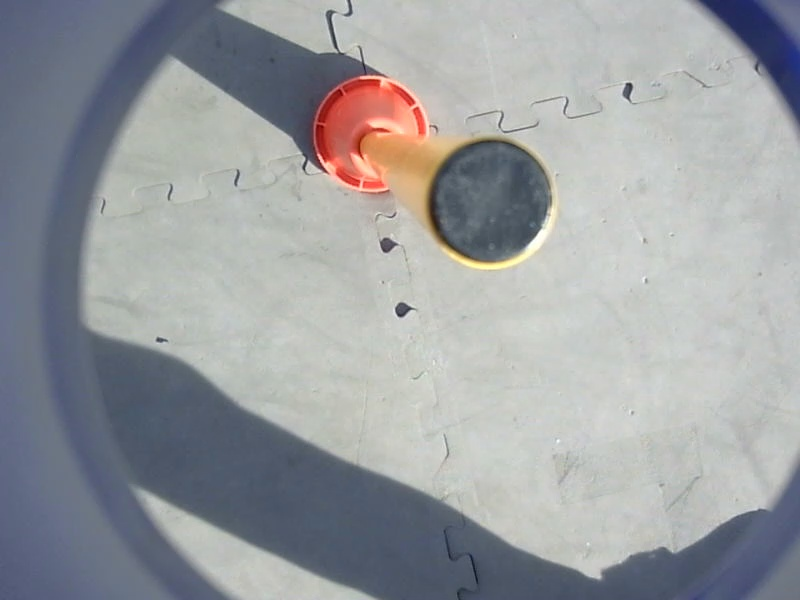tip: (416, 130, 561, 279)
